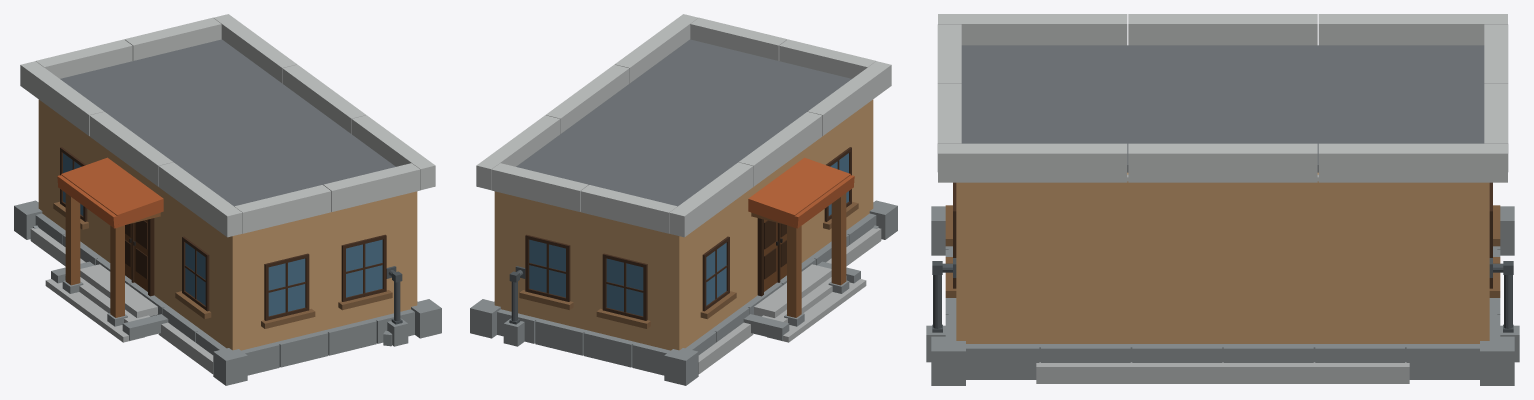
Rendered from community_center.fbx.
3 renders of one model, left to right at view 1: azimuth 30°, elevation 25°; view 2: azimuth 150°, elevation 25°; view 3: azimuth 270°, elevation 25°, orthographic. The views are drawn at different scales.
Visible parts, largest first — view 1: Window_Right_1_Glass, Window_Right_1_Glass.001, Window_Right_1_Glass.002; view 2: Window_Right_1_Glass, Window_Right_1_Glass.002; view 3: Window_Right_1_Glass.
Part boxes in pixels (x1=…): Window_Right_1_Glass: x1=14, y1=14, x2=441, y2=385; Window_Right_1_Glass.001: x1=268, y1=239, x2=382, y2=316; Window_Right_1_Glass.002: x1=63, y1=153, x2=205, y2=305; Window_Right_1_Glass: x1=470, y1=14, x2=897, y2=385; Window_Right_1_Glass.002: x1=529, y1=153, x2=848, y2=316; Window_Right_1_Glass: x1=926, y1=14, x2=1519, y2=385.
Size of the model in its own units: 749 by 478 by 1112.
